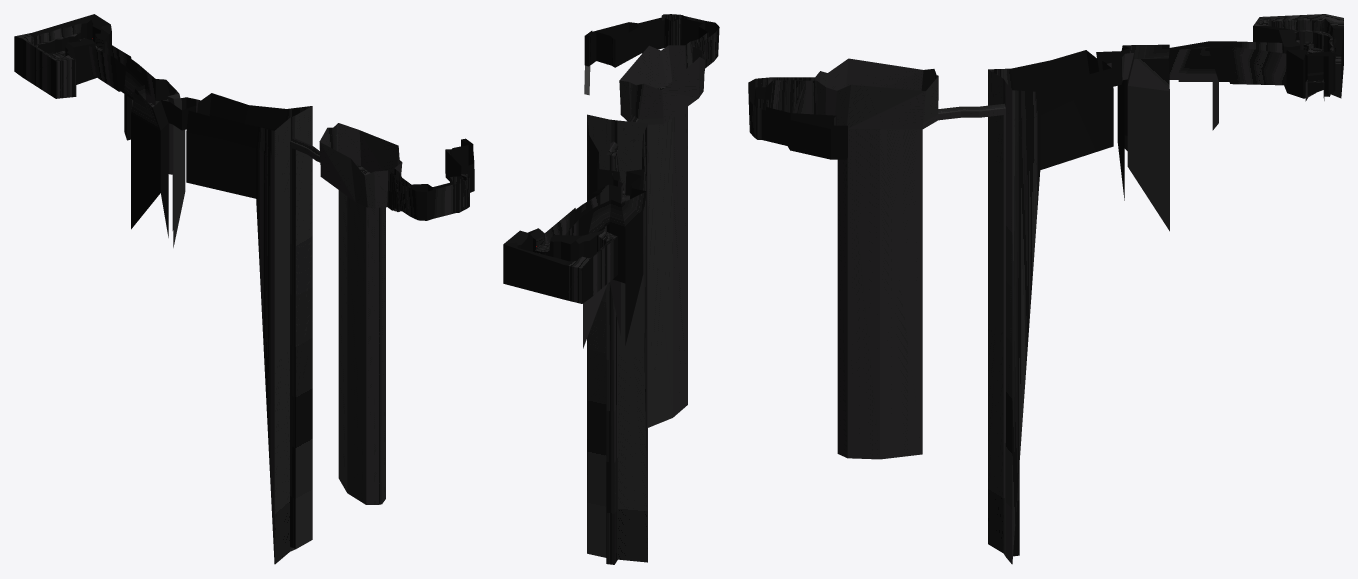
The model's file is Map.glb.
3 views of the same model, side by side, from view 1: azimuth 30°, elevation 25°; view 2: azimuth 150°, elevation 25°; view 3: azimuth 270°, elevation 25° (orthographic). The views are drawn at different scales.
Visible parts, largest first — view 1: Cube; view 2: Cube; view 3: Cube.
Boxes of the visible parts, left/top/right/bottom form: Cube: left=14, top=14, right=474, bottom=564; Cube: left=503, top=14, right=719, bottom=564; Cube: left=748, top=14, right=1343, bottom=564.
Size of the model in its own units: 489 by 934 by 1024.
4 materials, 1 textured.
